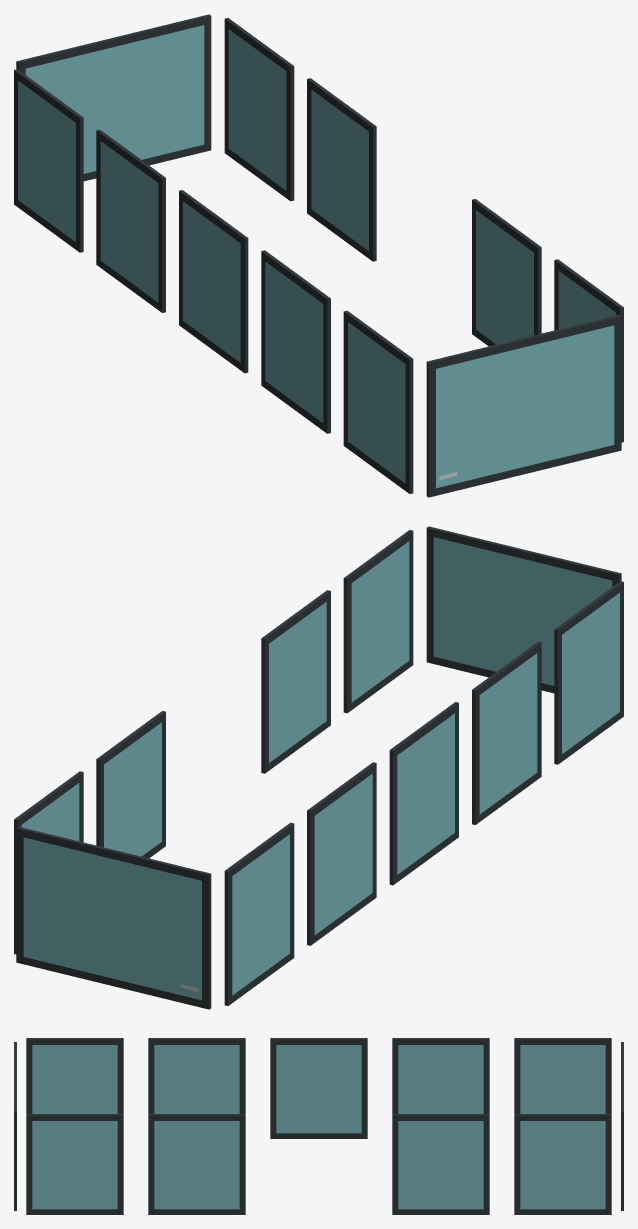
3 renders of one model, top to bottom at view 1: azimuth 30°, elevation 25°; view 2: azimuth 150°, elevation 25°; view 3: azimuth 270°, elevation 25°, orthographic. The views are drawn at different scales.
Visible parts, largest first — view 1: 既有公共载具上部玻璃盒; view 2: 既有公共载具上部玻璃盒; view 3: 既有公共载具上部玻璃盒.
Boxes of the visible parts, x1,y1,x2,y2 form: 既有公共载具上部玻璃盒: [14, 14, 623, 497]; 既有公共载具上部玻璃盒: [14, 526, 623, 1009]; 既有公共载具上部玻璃盒: [14, 1038, 623, 1214].
Size of the model in its own units: 3 by 1.8 by 10.
3 materials, 3 textured.
